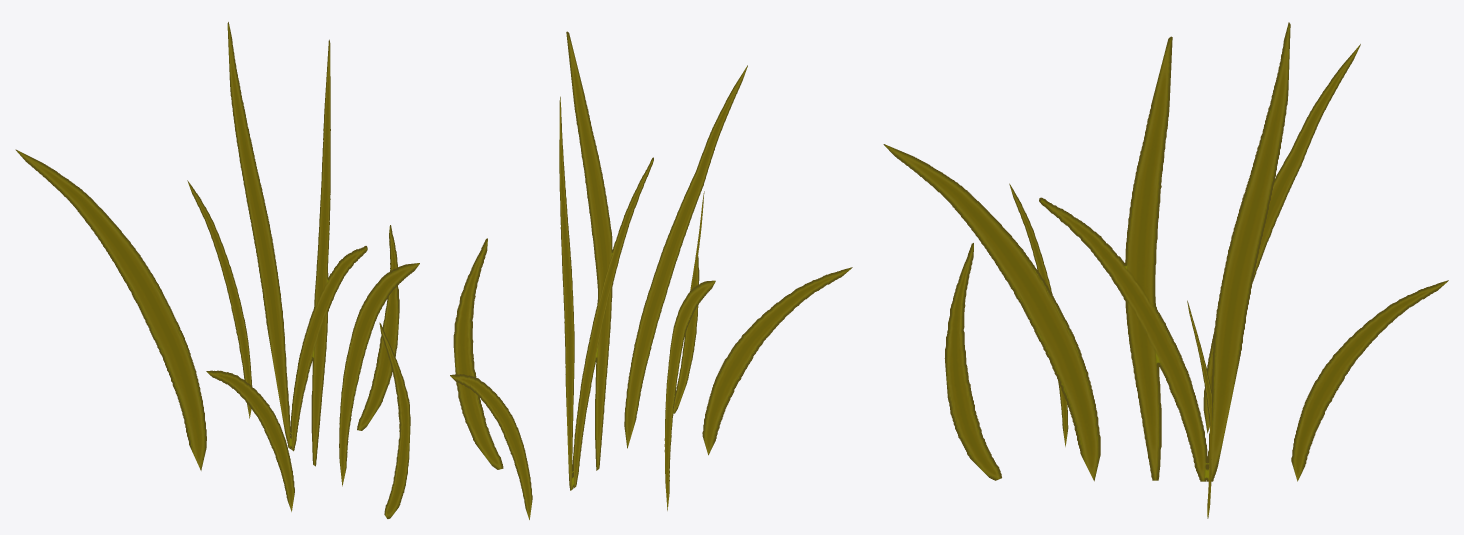
Rendered from SM_grass.fbx.
3 views of the same model, side by side, from view 1: azimuth 30°, elevation 25°; view 2: azimuth 150°, elevation 25°; view 3: azimuth 270°, elevation 25° (orthographic). The views are drawn at different scales.
Parts seen in each view (by area): view 1: SM_grass_LOD0; view 2: SM_grass_LOD0; view 3: SM_grass_LOD0.
Part boxes in pixels (left/top/right/bottom): SM_grass_LOD0: left=15, top=22, right=419, bottom=518; SM_grass_LOD0: left=450, top=31, right=852, bottom=519; SM_grass_LOD0: left=883, top=22, right=1448, bottom=518.
Size of the model in its own units: 60.5 by 84.91 by 78.44.
1 material, 1 textured.
